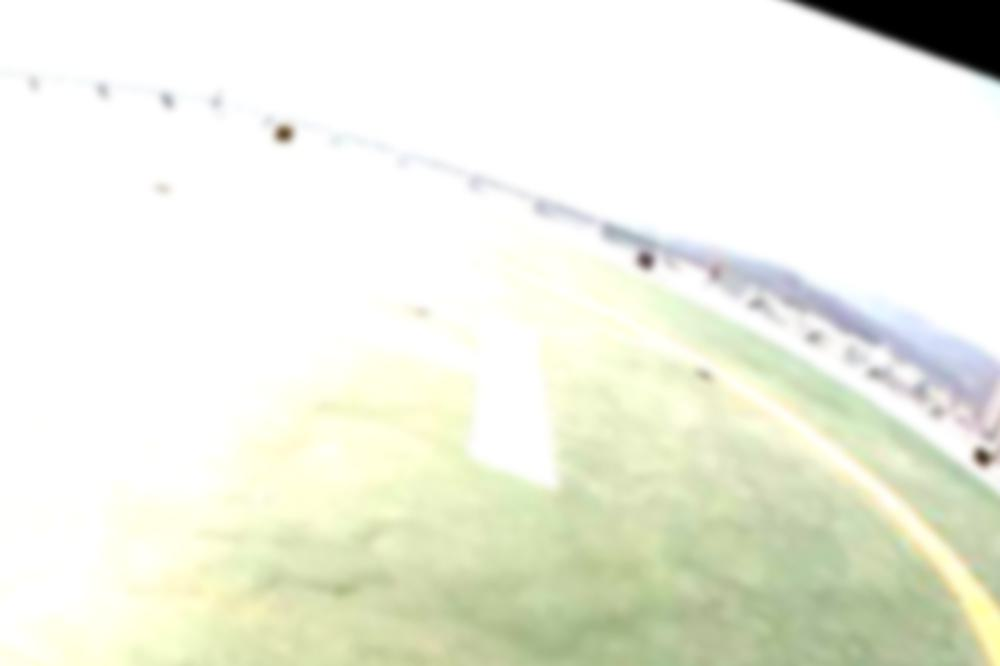Apron: (61, 259, 941, 648)
